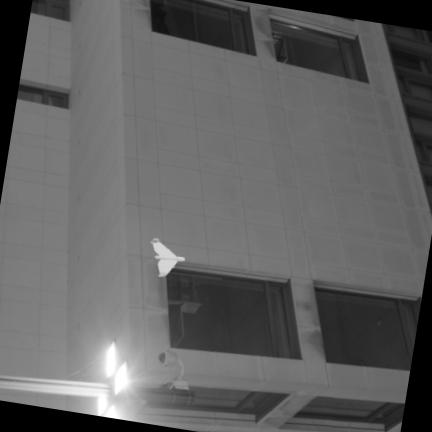Shahed: (150, 239, 184, 277)
